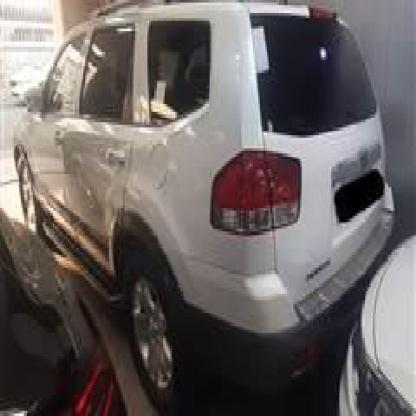car: (0, 0, 383, 398)
